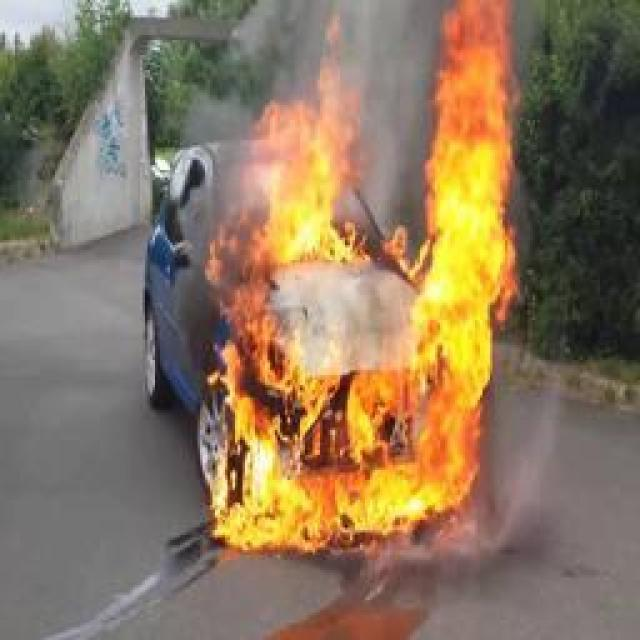Fire: (212, 0, 518, 558)
